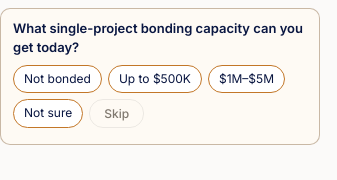
Scenario: in-flight save feedback › shows Saving… and blocks a second submit while the answer is in flight
The image size is (337, 180).
Click the button "Up to $500K": (155, 79) [108,65,202,93]
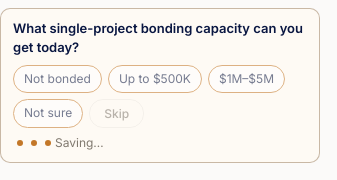
Now the message reads "Saving…", box [55,135,104,150]
# A second click during the flight is ignored (no double write).
Click the button "$1M–$5M": (246, 79) [208,65,285,93]
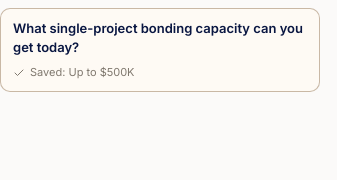
Now the message "Saving…" is gone
